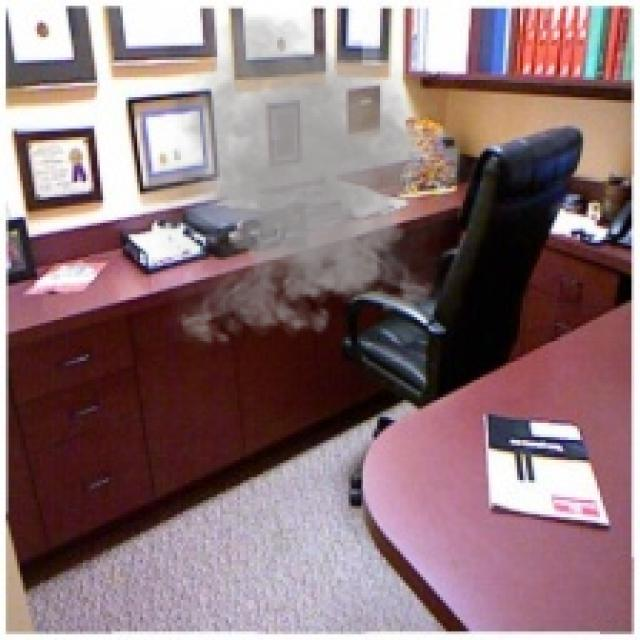smoke: (126, 9, 486, 354)
